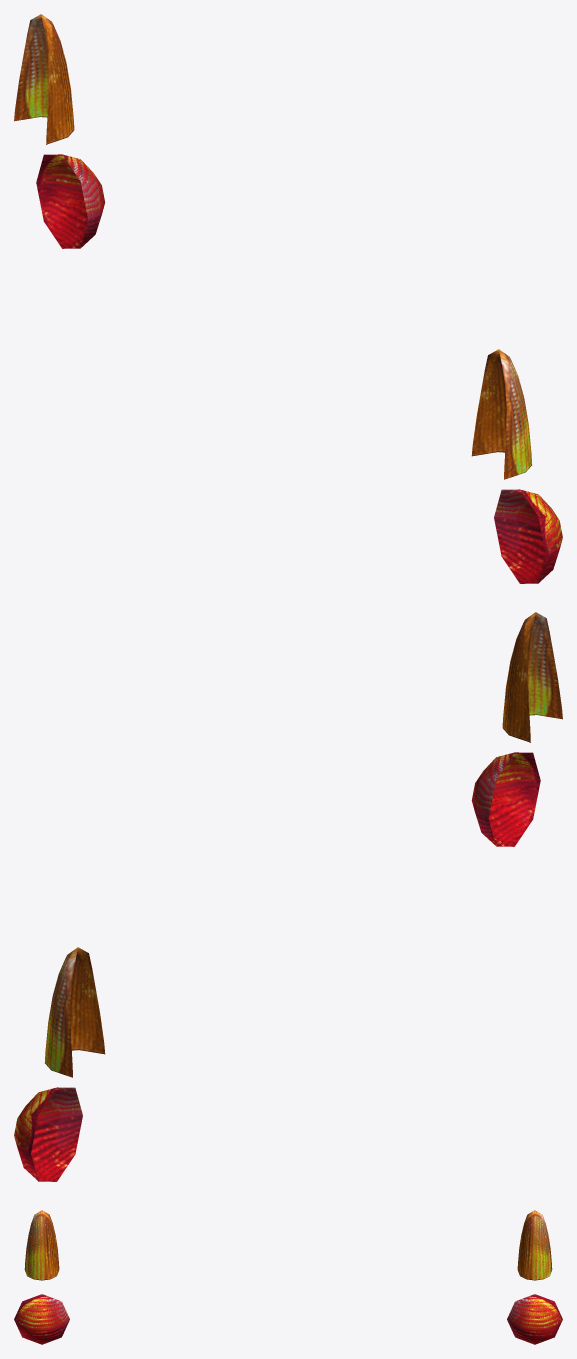
File: M_Home_Garden_couch_02_Lights.fbx
3 views of the same model, one above another, from view 1: azimuth 30°, elevation 25°; view 2: azimuth 150°, elevation 25°; view 3: azimuth 270°, elevation 25° (orthographic). The views are drawn at different scales.
Parts seen in each view (by area): view 1: M_Home_Garden_couch_02_Lights; view 2: M_Home_Garden_couch_02_Lights; view 3: M_Home_Garden_couch_02_Lights.
Boxes of the visible parts, <box> form: M_Home_Garden_couch_02_Lights: <box>14,14,562,583</box>; M_Home_Garden_couch_02_Lights: <box>14,612,562,1181</box>; M_Home_Garden_couch_02_Lights: <box>14,1210,562,1344</box>.
Bounding box in the file's own units: 15.06 × 50.64 × 195.
